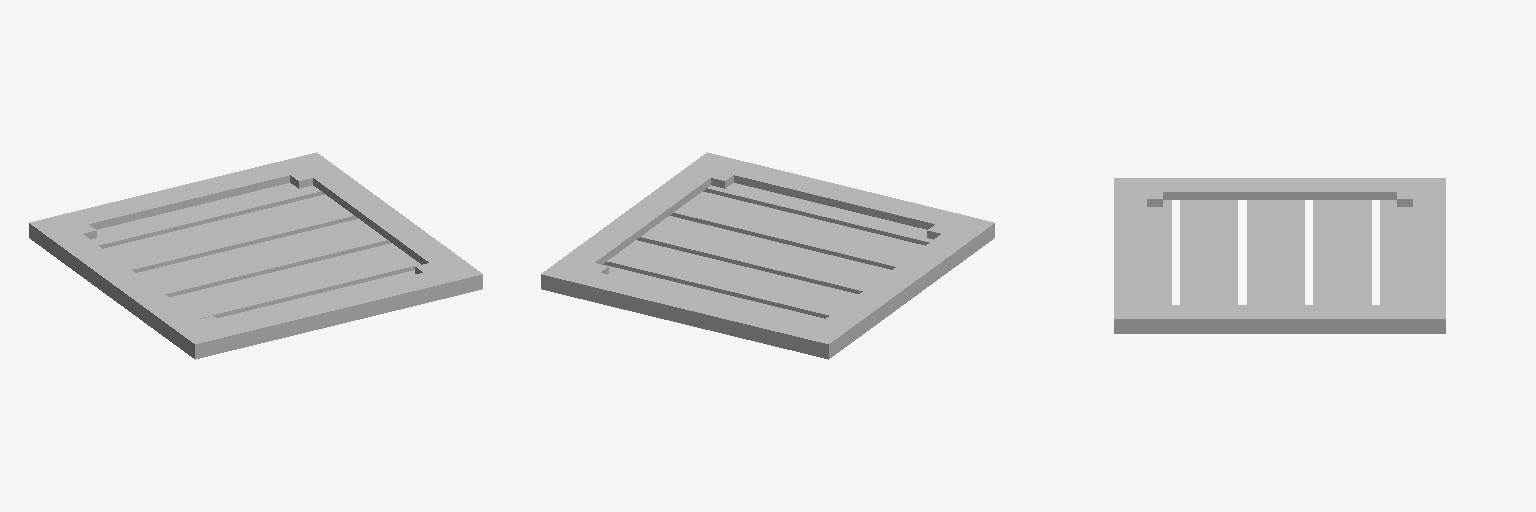
The model's file is SL_CrateSide_1.obj.
The picture shows the model from 3 angles: view 1: azimuth 30°, elevation 25°; view 2: azimuth 150°, elevation 25°; view 3: azimuth 270°, elevation 25°; orthographic projection.
Visible parts, largest first — view 1: SL_CrateSide_1; view 2: SL_CrateSide_1; view 3: SL_CrateSide_1.
Boxes of the visible parts, x1=… form: SL_CrateSide_1: x1=29, y1=152, x2=482, y2=359; SL_CrateSide_1: x1=541, y1=152, x2=994, y2=359; SL_CrateSide_1: x1=1114, y1=178, x2=1445, y2=333.
Bounding box in the file's own units: 40 × 2 × 40.